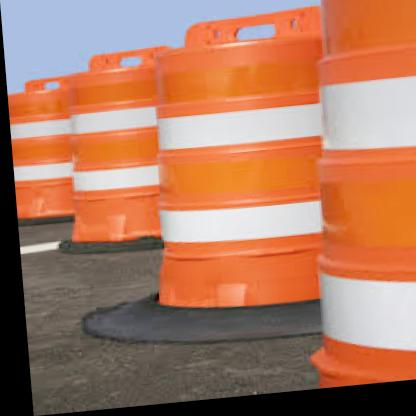obstacle: (127, 9, 338, 335)
